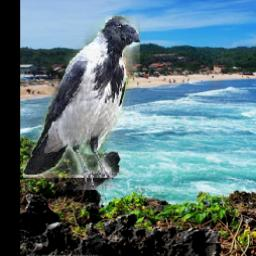Crow: (23, 16, 140, 191)
